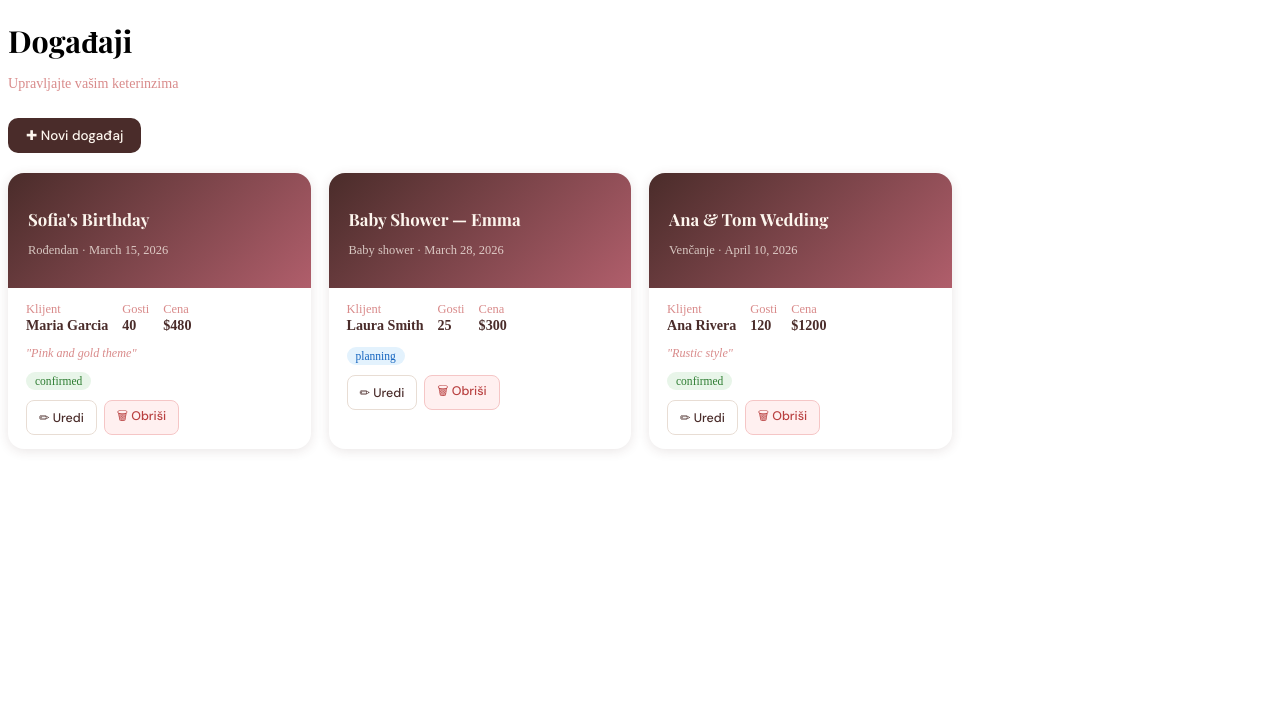
it: EventsPage › shows Serbian validation errors
What coordinates should you click on to do the following:
click the button "✚ Novi događaj"
I would click on:
 (75, 136)
Its box is [8,118,141,153].
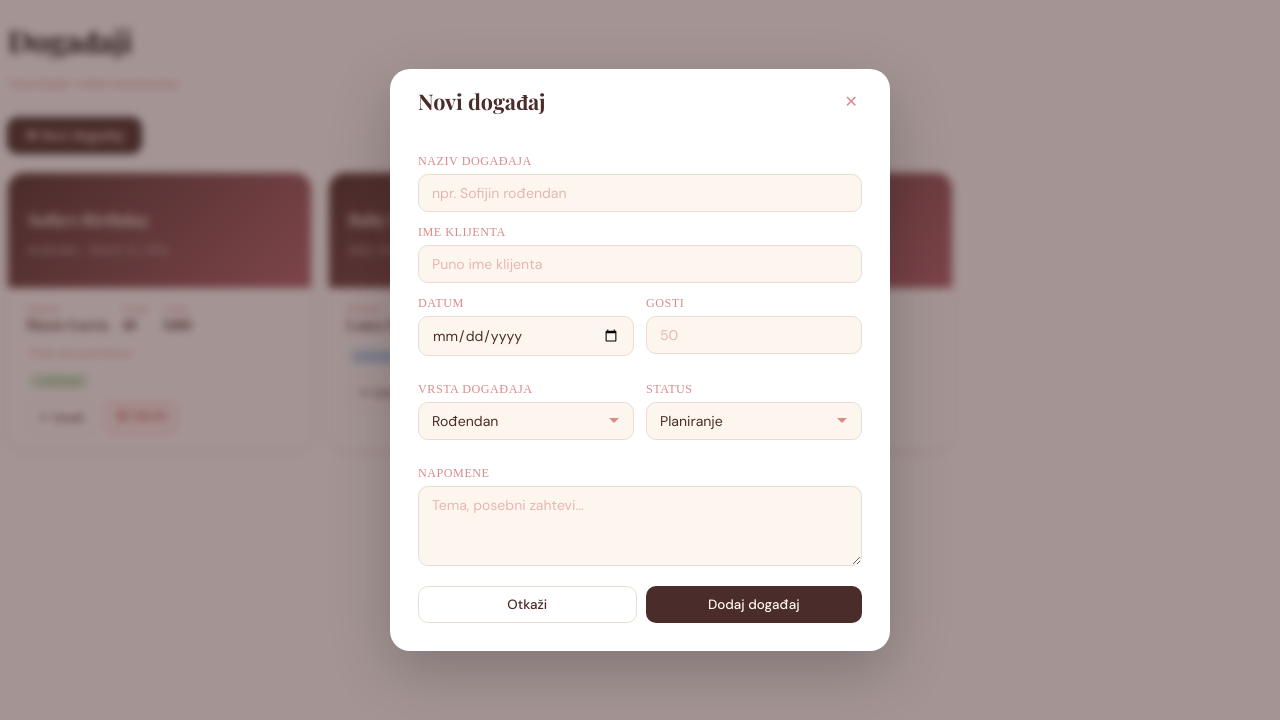
What coordinates should you click on to do the following:
click the button "Dodaj događaj"
I would click on:
 (754, 604)
Its box is [646,586,862,623].
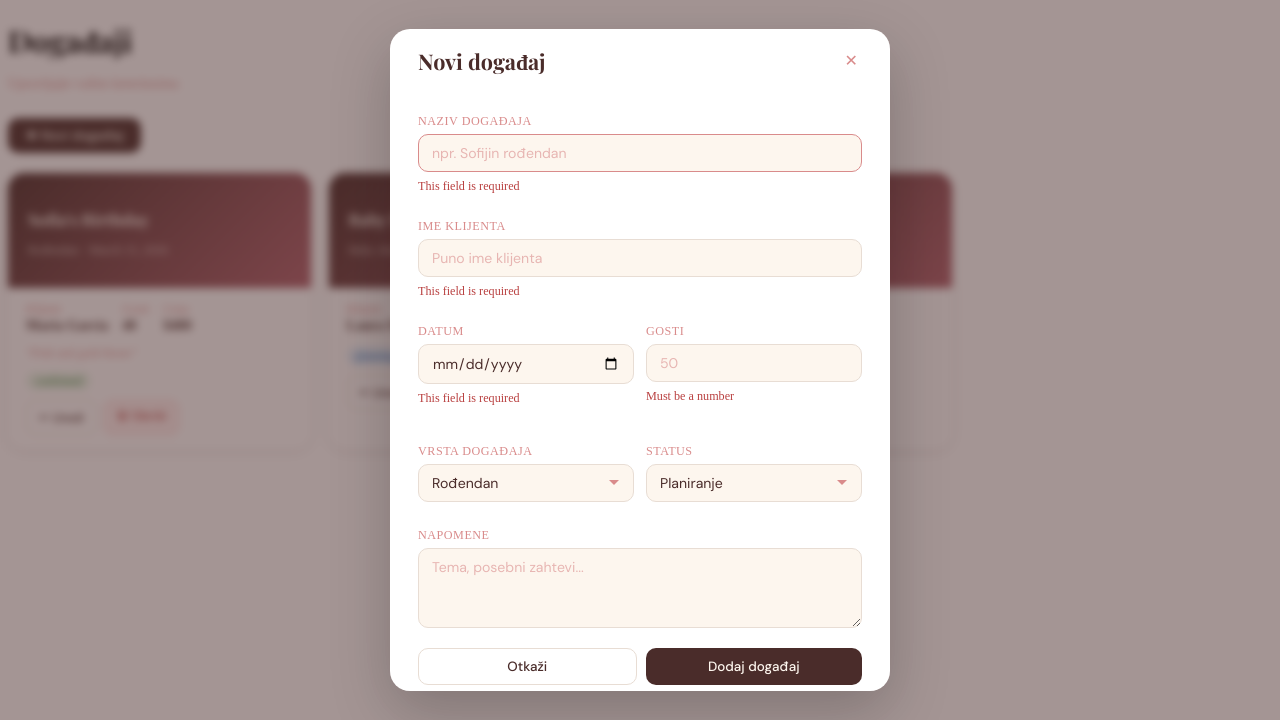
Expected: the text "This field is required" below "Naziv događaja" is shown, [418,179,520,193]
